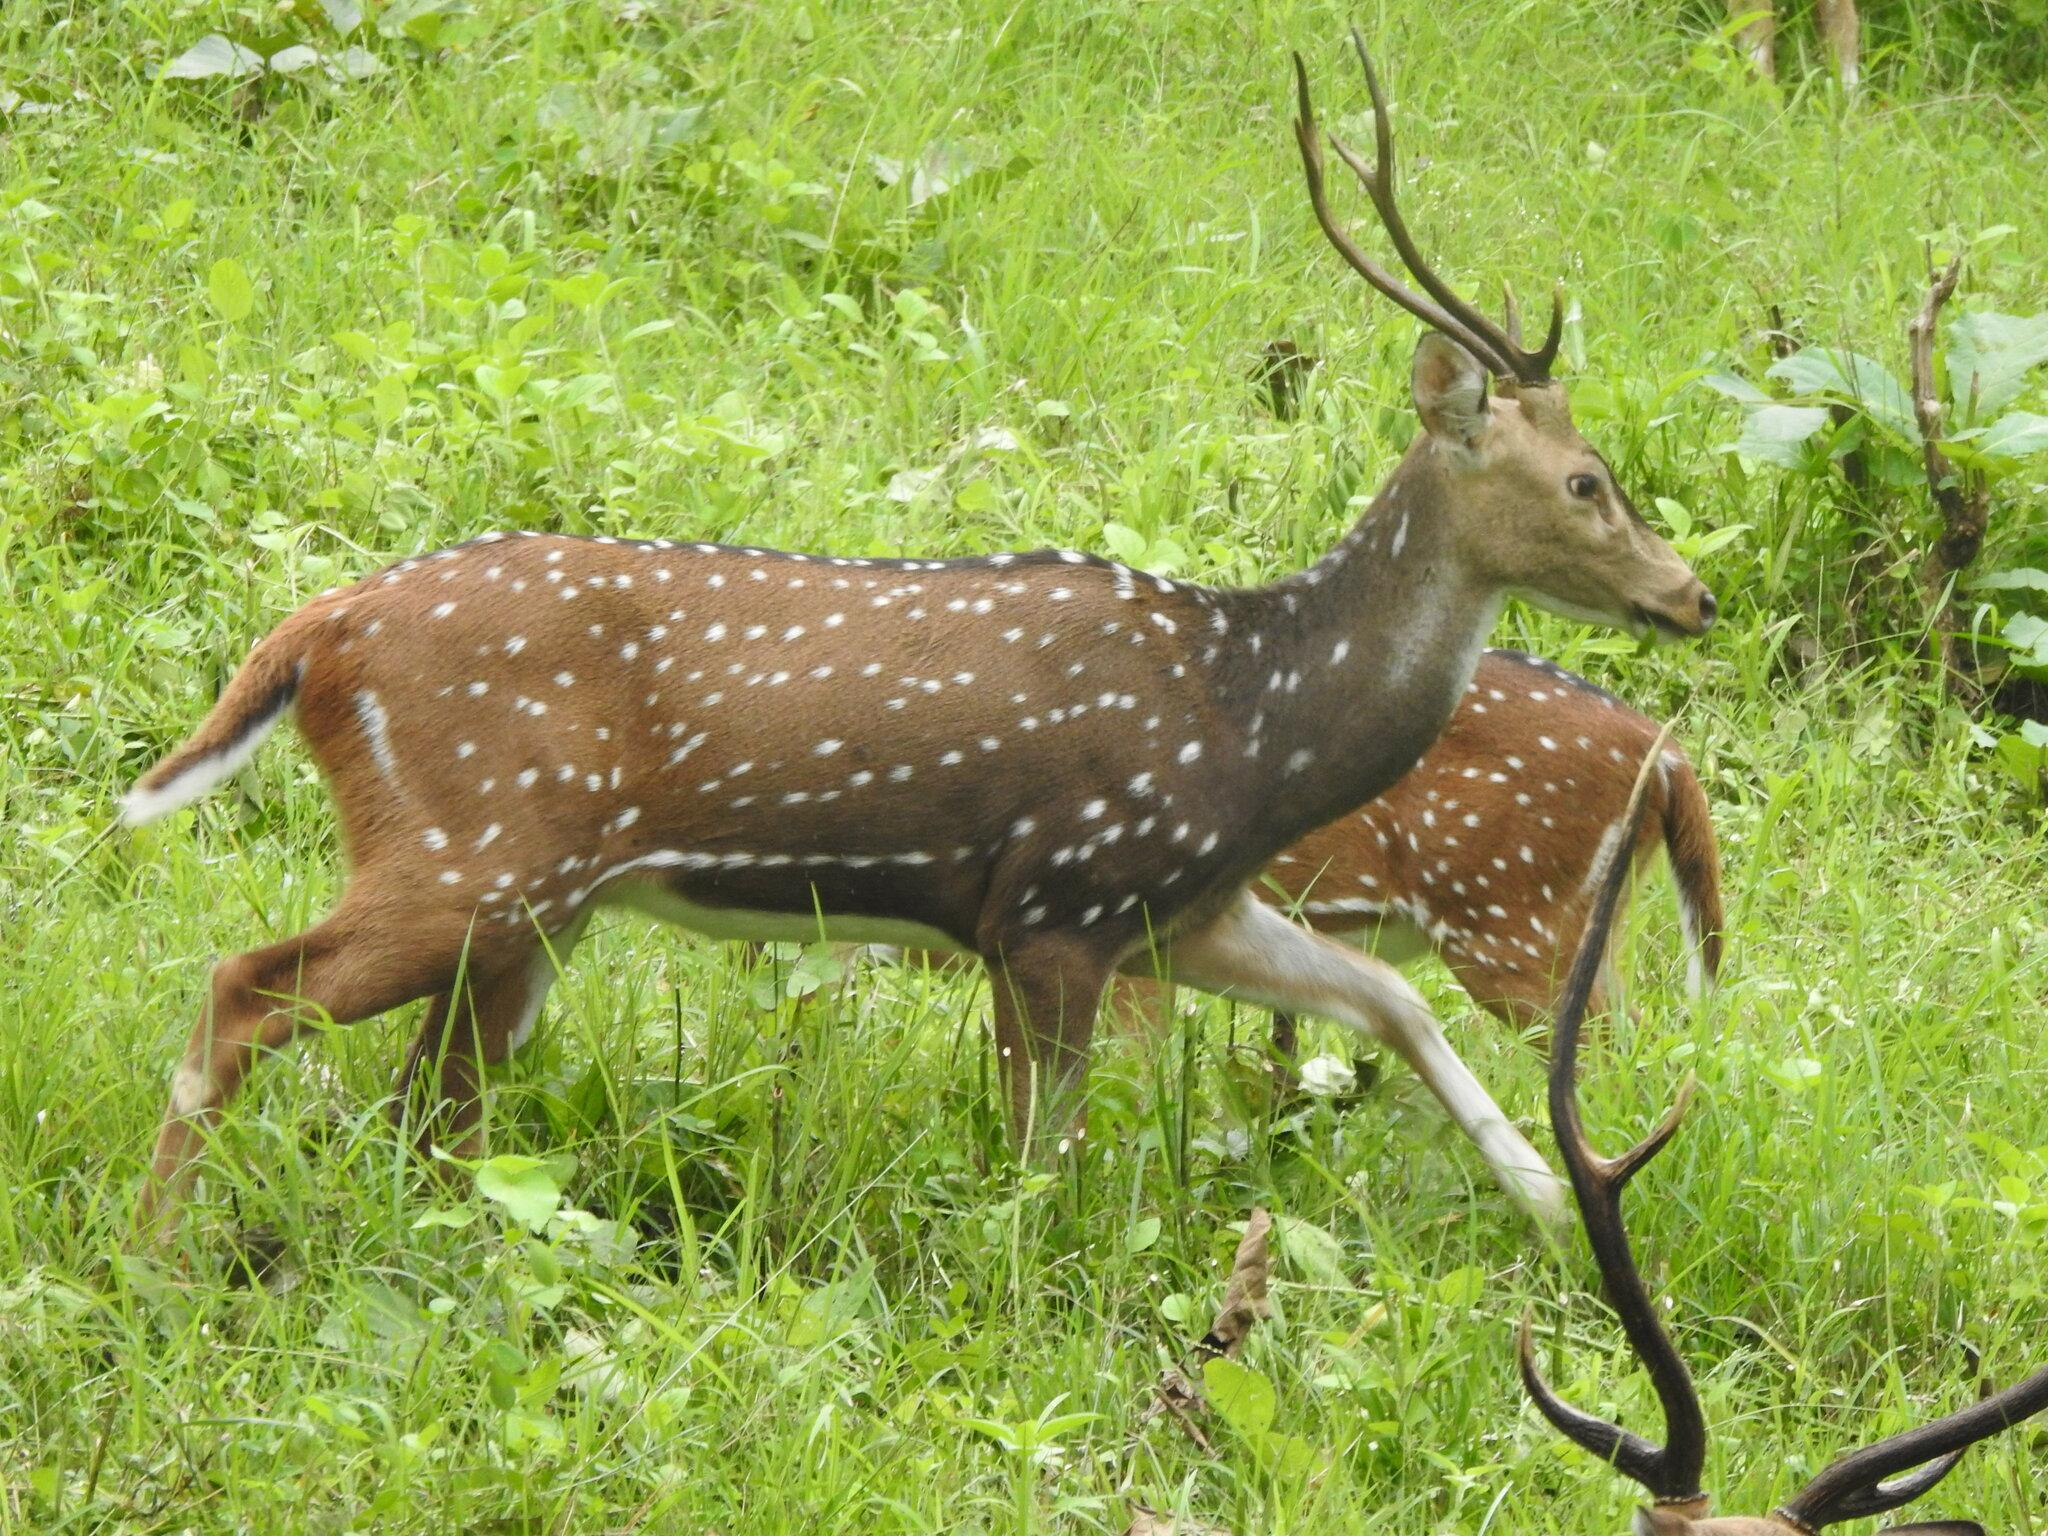Deer: (119, 44, 1716, 1218)
